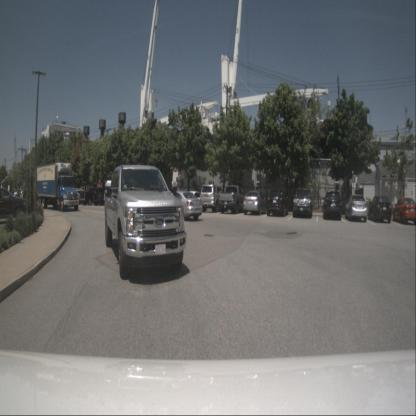vehicle-car: (159, 190, 204, 221), (0, 188, 28, 219), (200, 185, 228, 213), (392, 197, 416, 226), (368, 195, 392, 223), (292, 186, 313, 218), (345, 194, 367, 222), (267, 188, 288, 216), (243, 191, 266, 216), (323, 190, 342, 220), (93, 187, 115, 206)
vehicle-truck: (104, 166, 187, 281), (34, 162, 79, 212), (218, 185, 248, 214), (79, 187, 106, 205)
